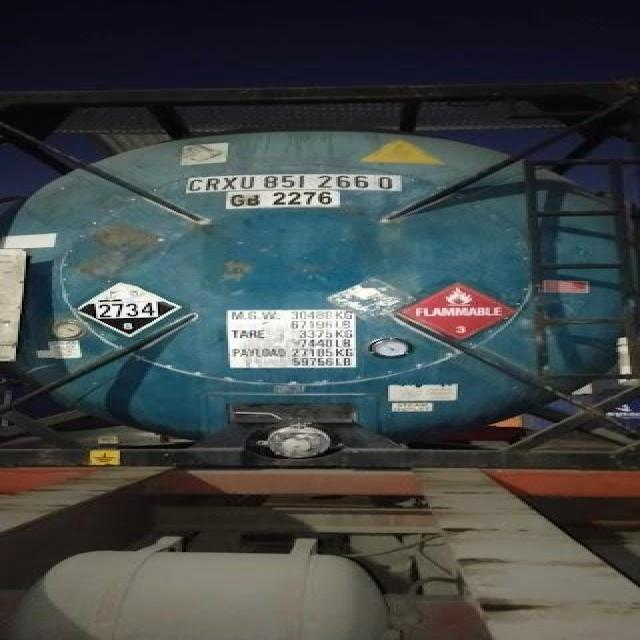ISO: (226, 190, 334, 212)
container_number: (189, 174, 403, 193)
